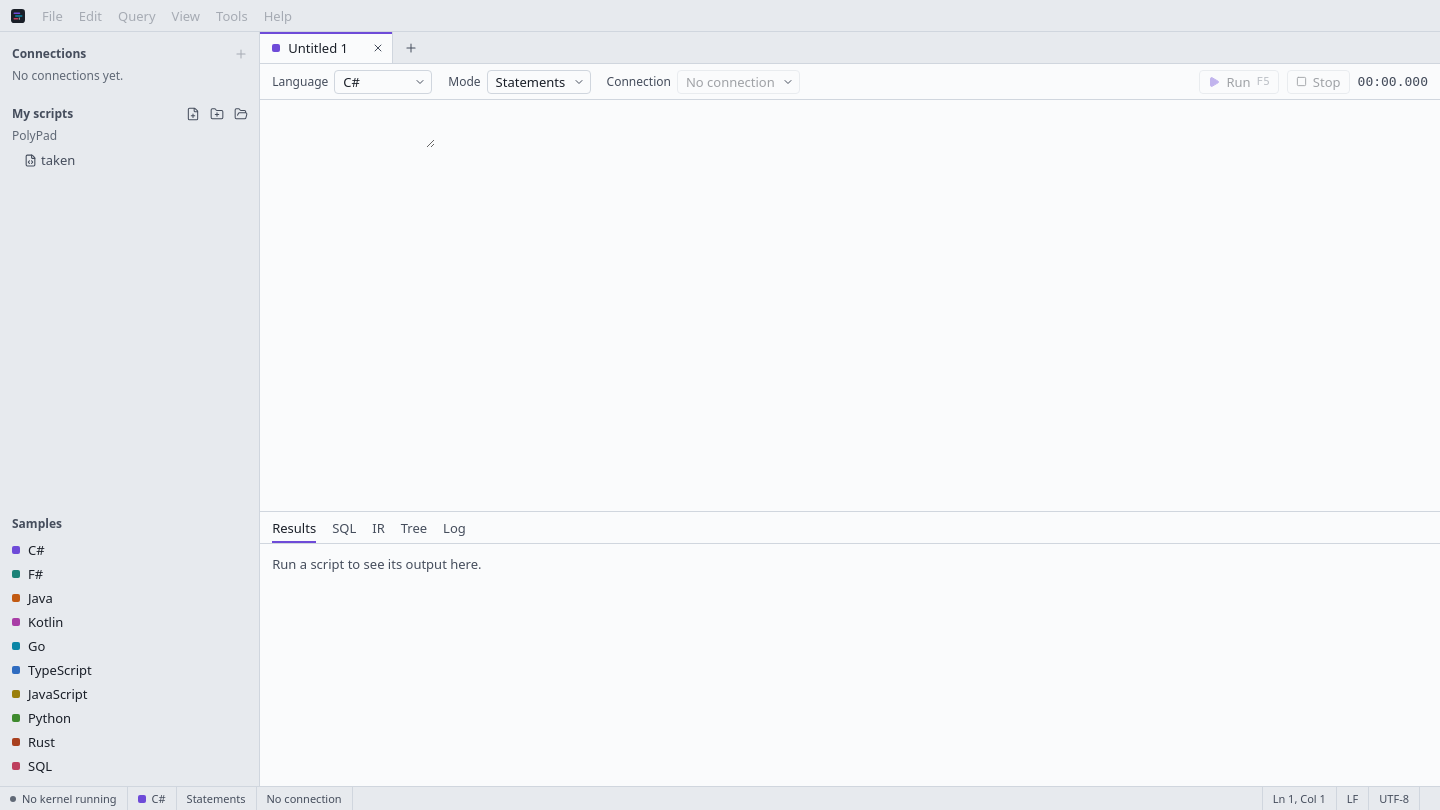
it: saving and closing › explains why a name is not accepted and keeps the dialog open
The width and height of the screenshot is (1440, 810).
Step 1. Clear the text box named "Editor text" → x=348, y=128, box [260, 108, 435, 148]
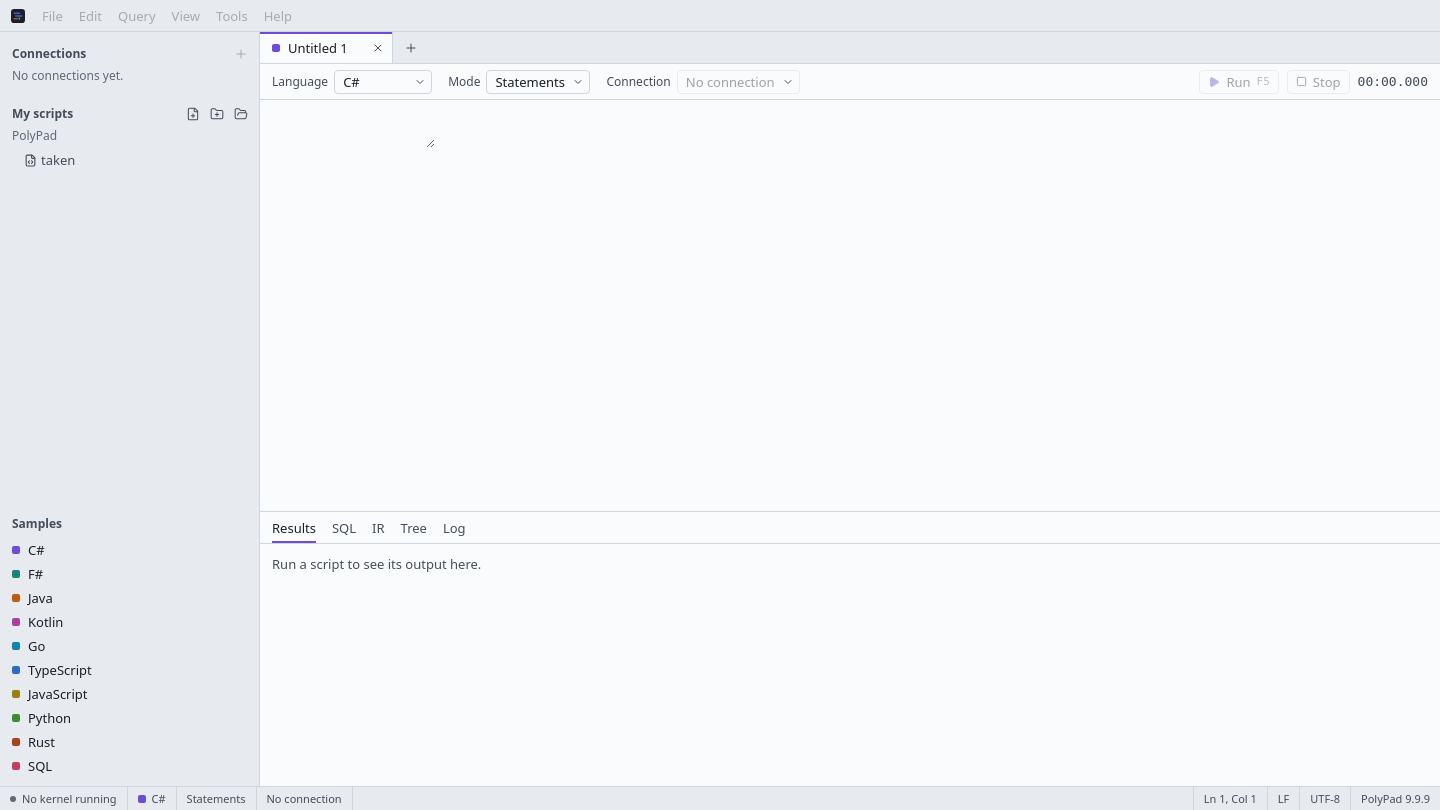
Expected: the element named "Open scripts" is shown, [260, 32, 393, 63]
Step 2. Type keys "{Control>}s{/Control}"
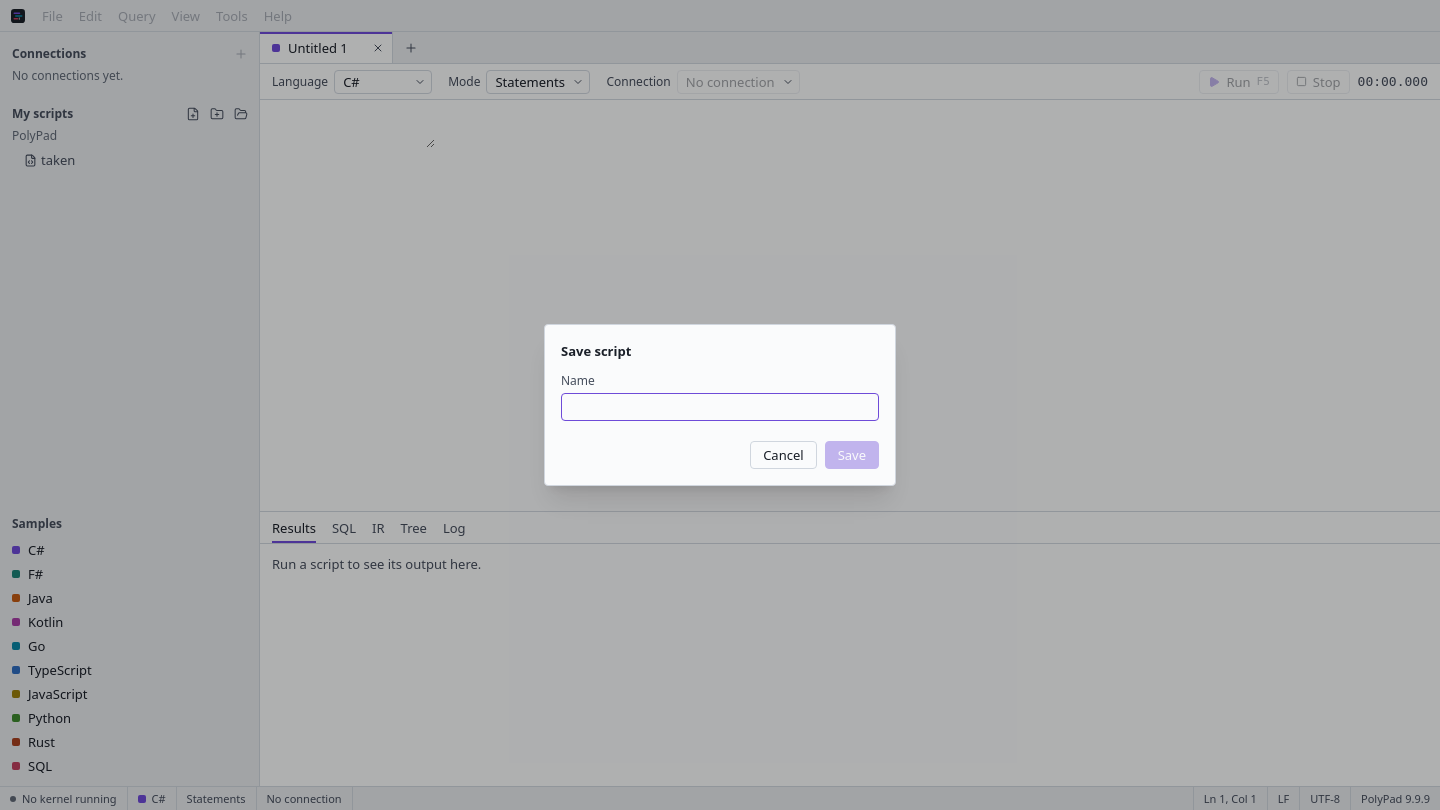
Step 3. Type "taken" into the field labelled "Name" → x=720, y=407, box [561, 393, 879, 421]
Then press Enter
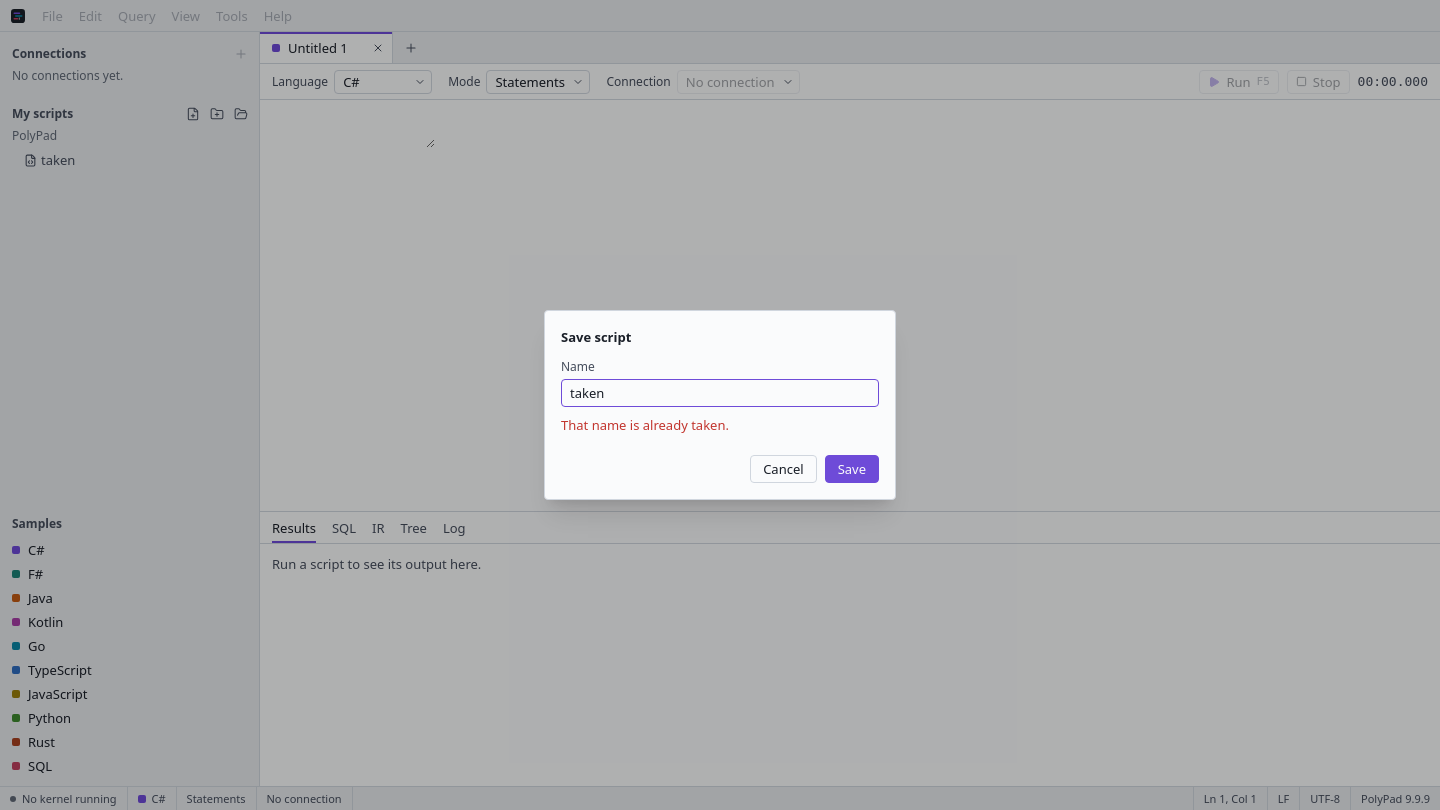
Now the message reads "That name is already taken.", box [561, 416, 729, 434]
